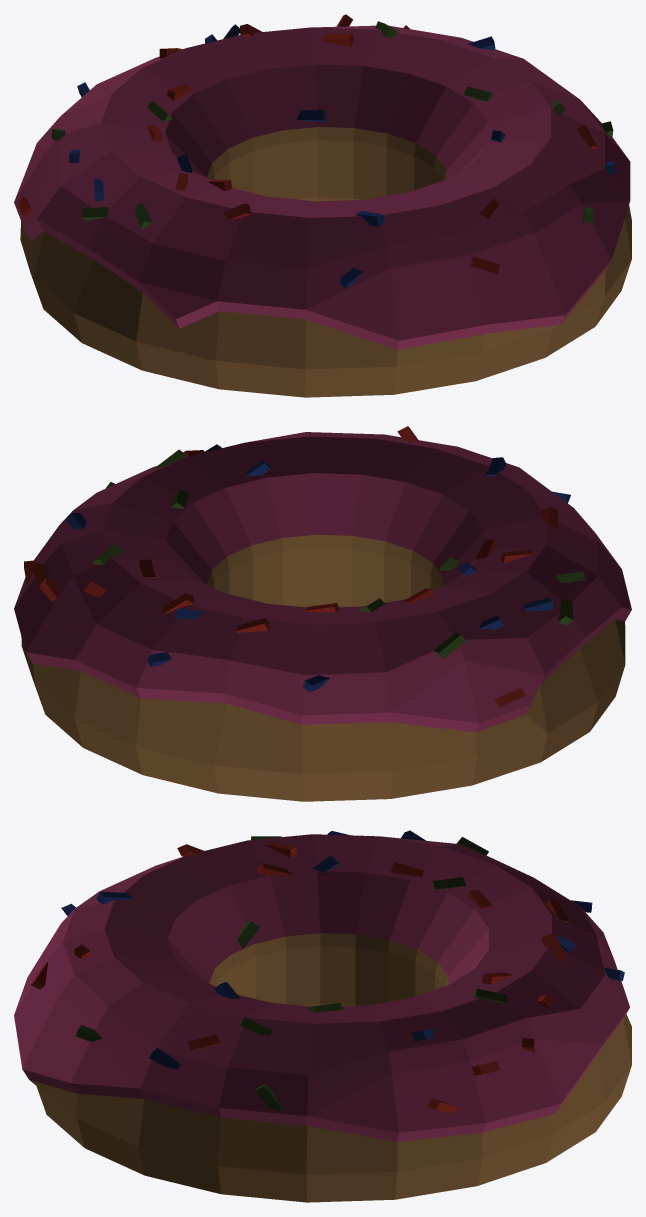
Rendered from donut.obj.
3 renders of one model, top to bottom at view 1: azimuth 30°, elevation 25°; view 2: azimuth 150°, elevation 25°; view 3: azimuth 270°, elevation 25°, orthographic.
Parts seen in each view (by area): view 1: obj2, obj1, obj5, obj3, obj4; view 2: obj2, obj1, obj5, obj3, obj4; view 3: obj2, obj1, obj5, obj4, obj3.
Boxes of the visible parts, x1=… form: obj2: x1=14, y1=25, x2=630, y2=349; obj1: x1=20, y1=127, x2=631, y2=397; obj5: x1=18, y1=14, x2=597, y2=273; obj3: x1=69, y1=24, x2=614, y2=288; obj4: x1=51, y1=21, x2=613, y2=228; obj2: x1=14, y1=432, x2=631, y2=732; obj1: x1=21, y1=534, x2=625, y2=801; obj5: x1=24, y1=426, x2=558, y2=706; obj3: x1=65, y1=444, x2=570, y2=691; obj4: x1=93, y1=449, x2=584, y2=658; obj2: x1=14, y1=834, x2=629, y2=1141; obj1: x1=29, y1=933, x2=631, y2=1202; obj5: x1=31, y1=841, x2=569, y2=1113; obj4: x1=75, y1=836, x2=506, y2=1111; obj3: x1=61, y1=830, x2=624, y2=1069.
Bounding box in the file's own units: 0.8591 × 0.2914 × 0.8698.
